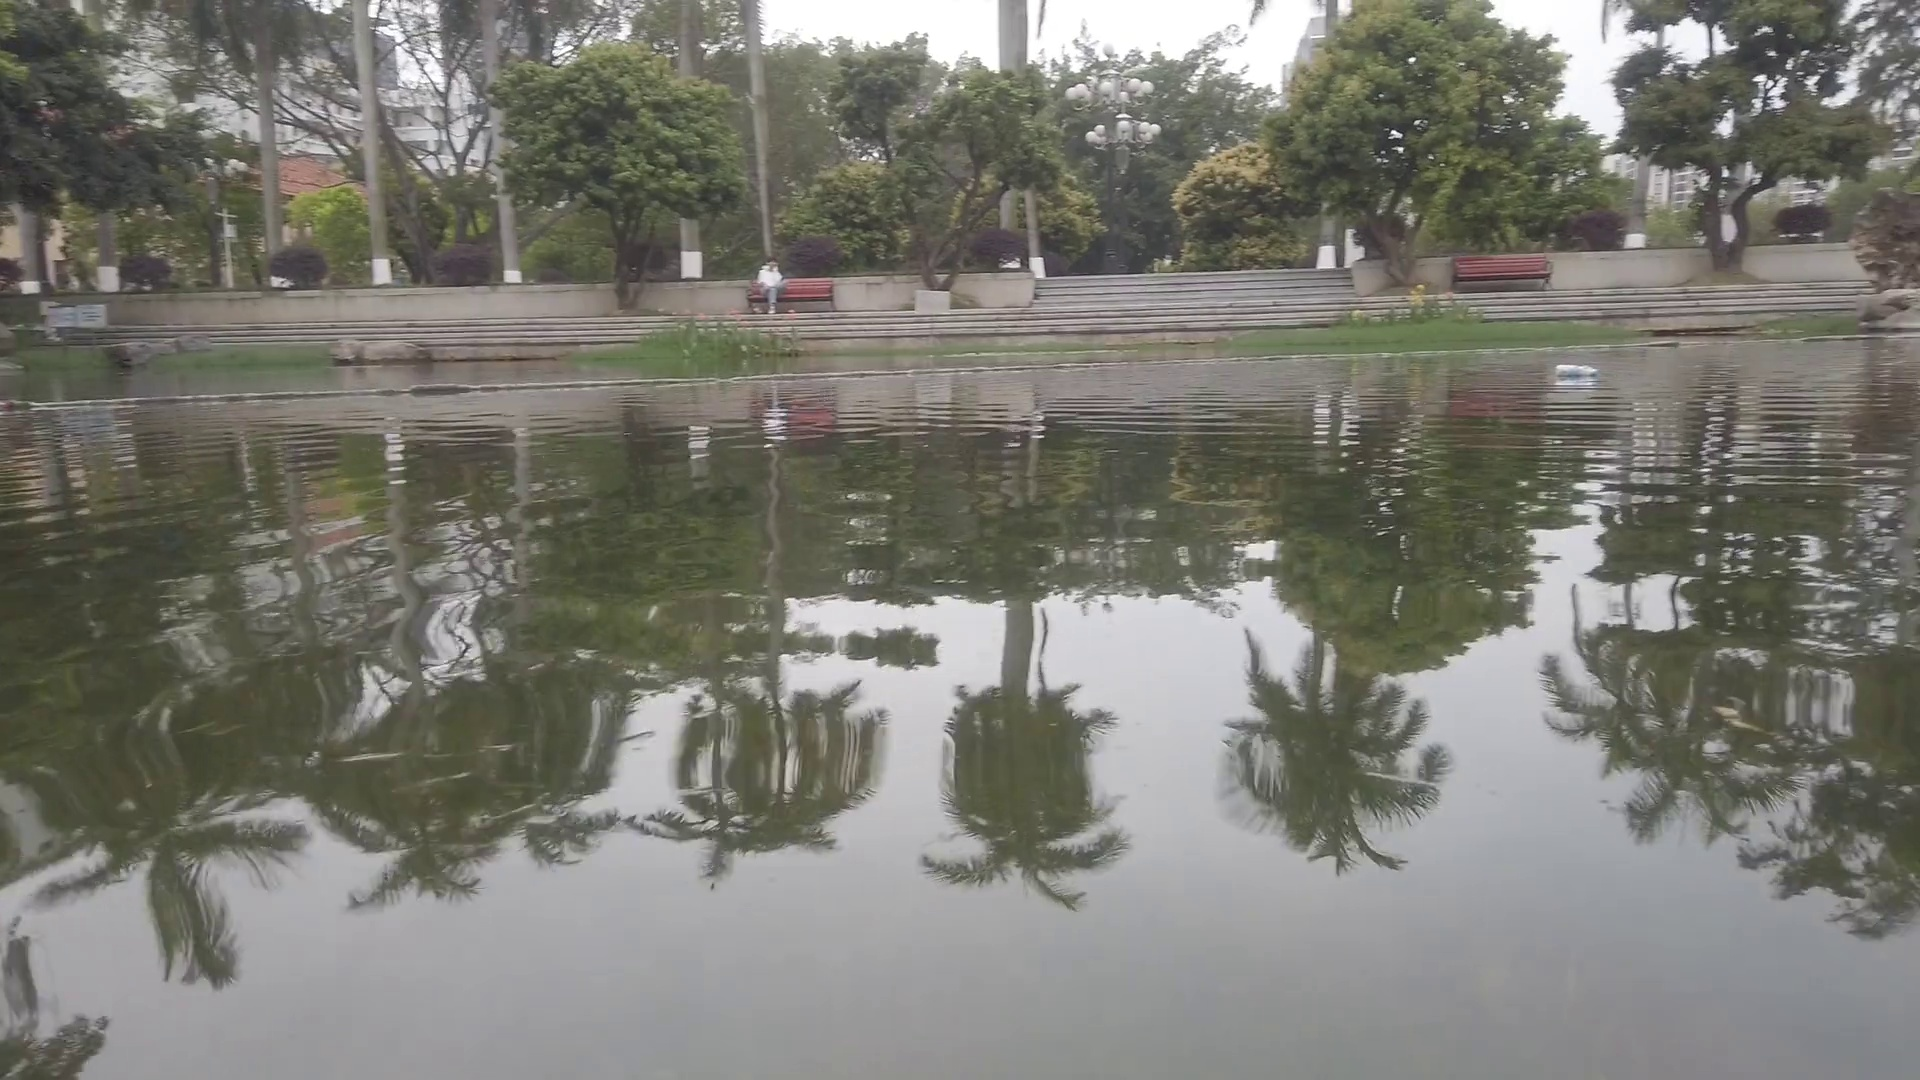bottle: (1555, 363, 1601, 380)
